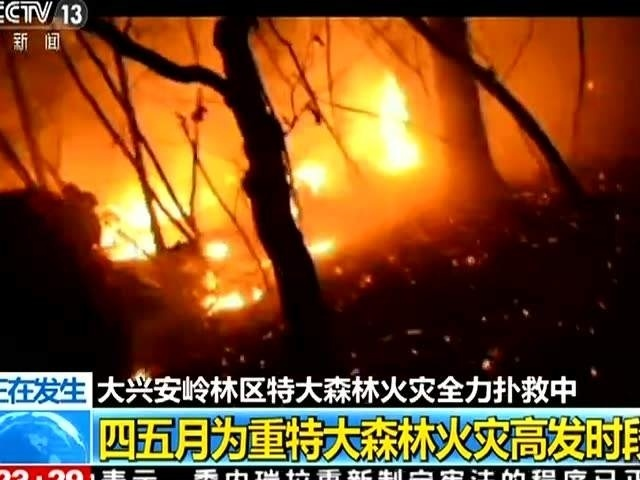fire: (97, 153, 263, 315), (360, 71, 428, 175), (286, 150, 342, 267)
